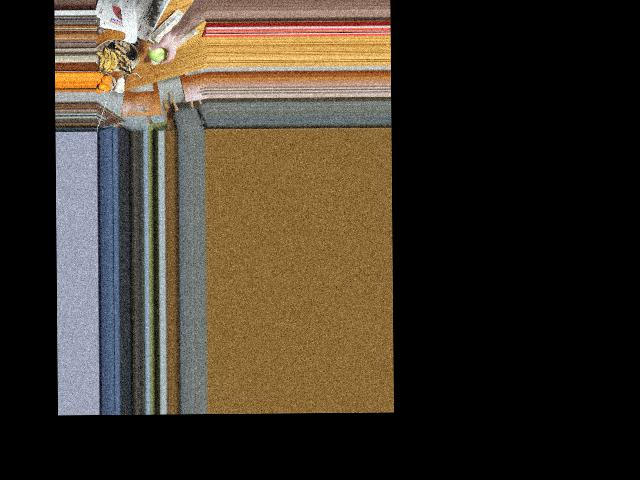apple: (147, 42, 168, 64)
